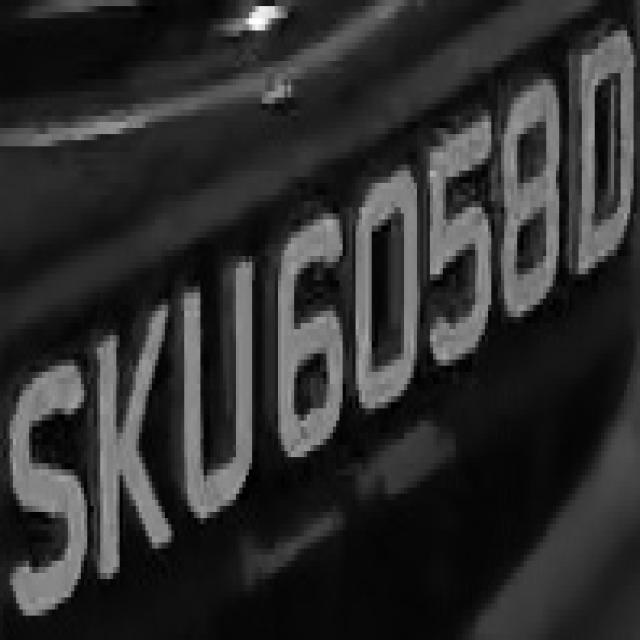0: (346, 170, 430, 432)
5: (420, 104, 498, 390)
6: (259, 219, 362, 482)
8: (495, 73, 572, 329)
D: (565, 36, 640, 274)
K: (87, 293, 181, 579)
S: (0, 341, 91, 628)
U: (168, 238, 265, 554)
